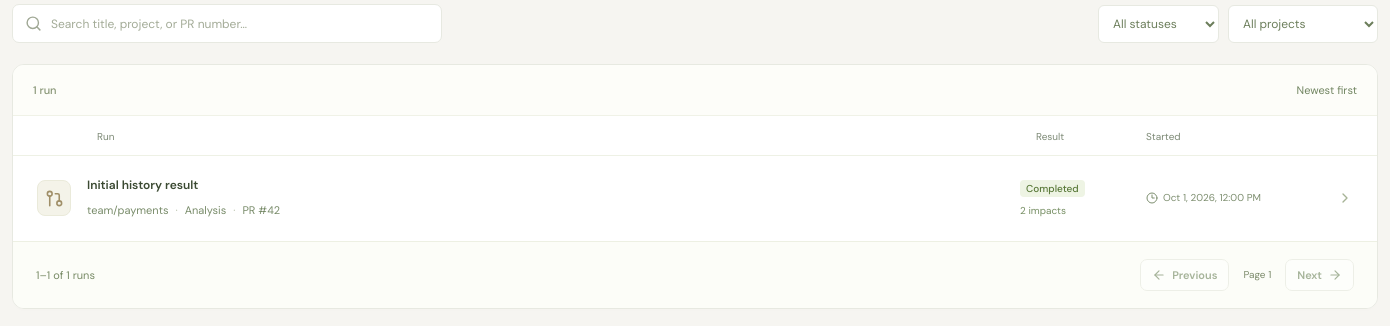
Test case: Analysis history › hides prior filter results immediately and ignores a late response from an older query
Expected: the text "Initial history result" is shown, x1=87 y1=177 x2=198 y2=193
Type "earlier" into the field named "Search analysis history" at (240, 24), box x1=51 y1=16 x2=429 y2=32
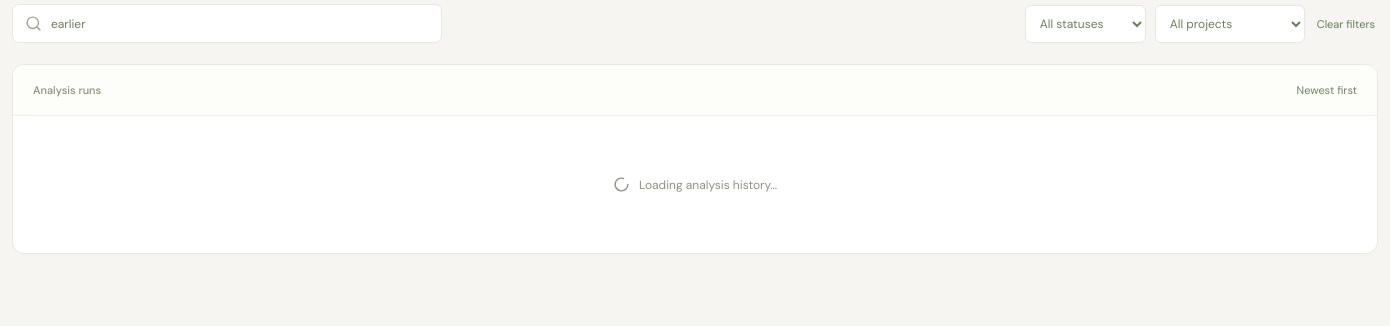
Expected: the button "Initial history result" is gone
Replace the text in the field named "Search analysis history" with "latest" at (240, 24), box x1=51 y1=16 x2=429 y2=32
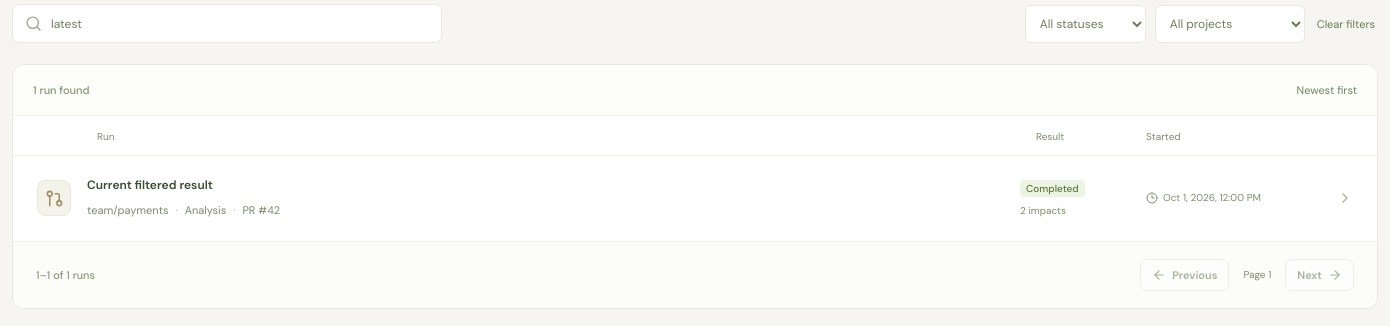
Expected: the text "Current filtered result" is shown, x1=87 y1=177 x2=213 y2=193
